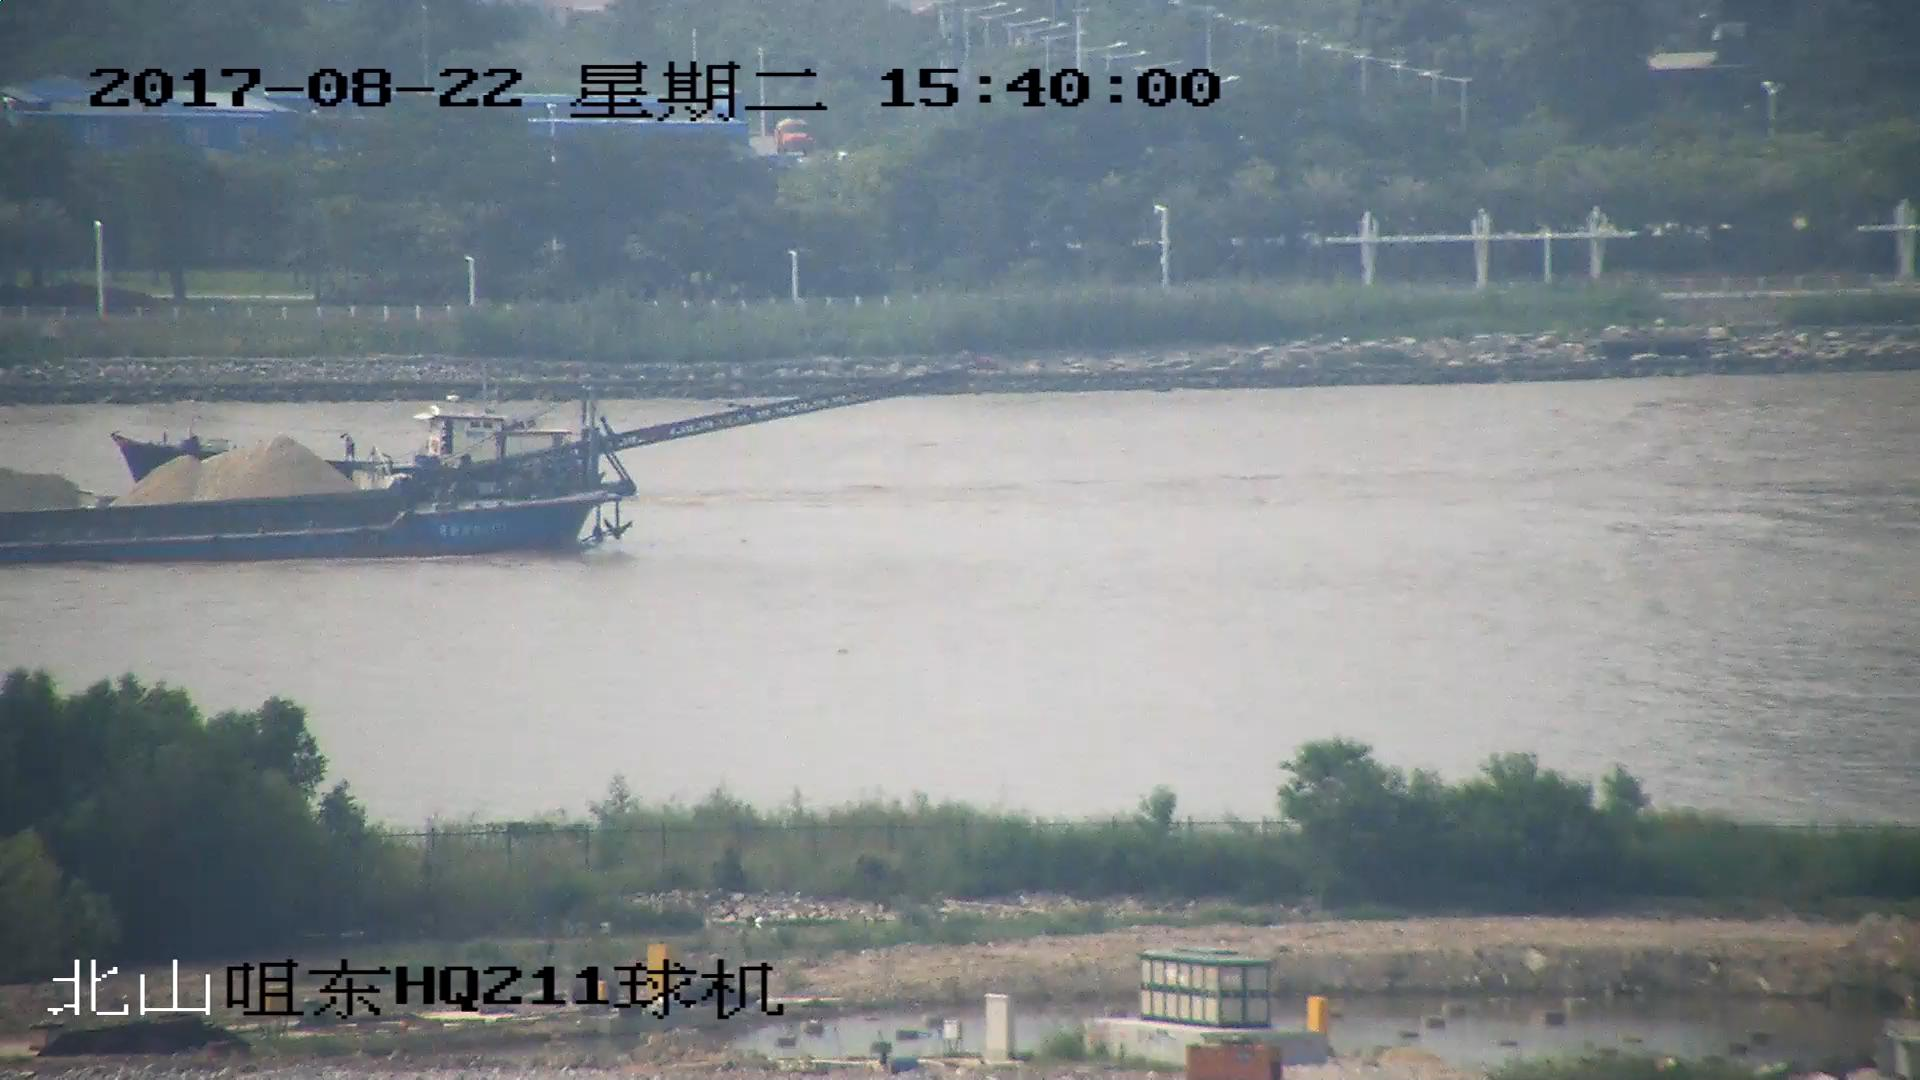fishing boat: (118, 395, 599, 510)
ore carrier: (1, 359, 974, 566)
